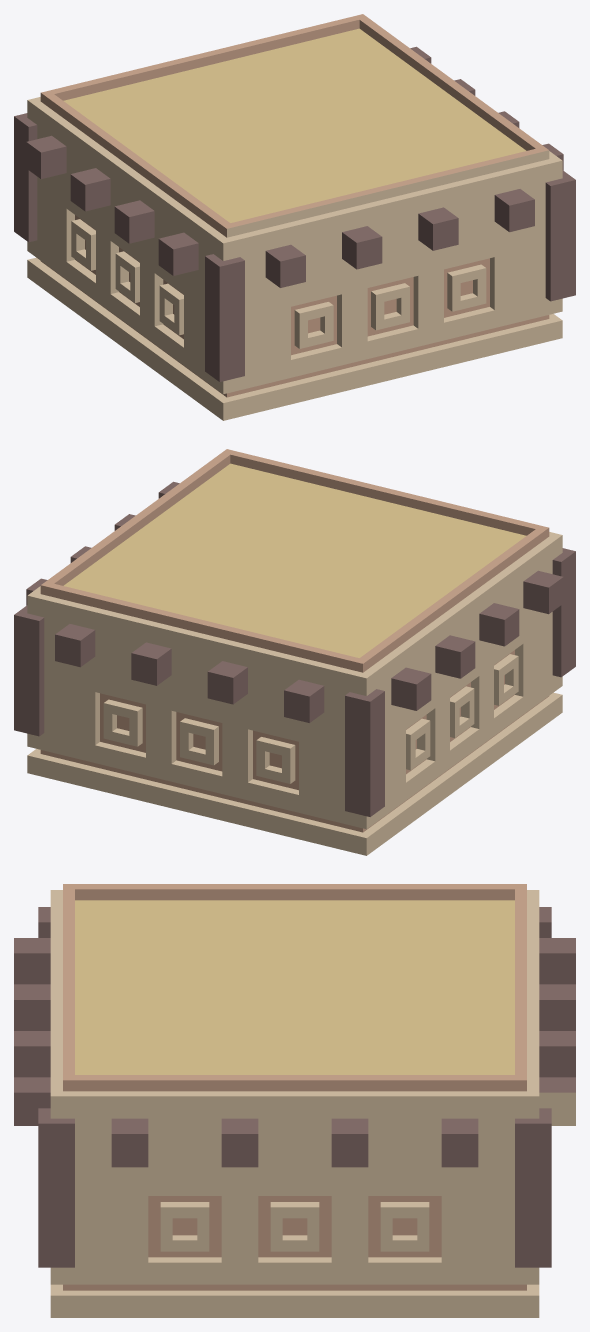
File: BS_Block_Base_Single.fbx
3 renders of one model, top to bottom at view 1: azimuth 30°, elevation 25°; view 2: azimuth 150°, elevation 25°; view 3: azimuth 270°, elevation 25°, orthographic. The views are drawn at different scales.
Parts seen in each view (by area): view 1: BS_Block_Base_Single; view 2: BS_Block_Base_Single; view 3: BS_Block_Base_Single.
Boxes of the visible parts, left/top/right/bottom form: BS_Block_Base_Single: left=14, top=14, right=575, bottom=420; BS_Block_Base_Single: left=14, top=449, right=575, bottom=855; BS_Block_Base_Single: left=14, top=884, right=575, bottom=1317.
Bounding box in the file's own units: 115 × 115 × 52.5.
